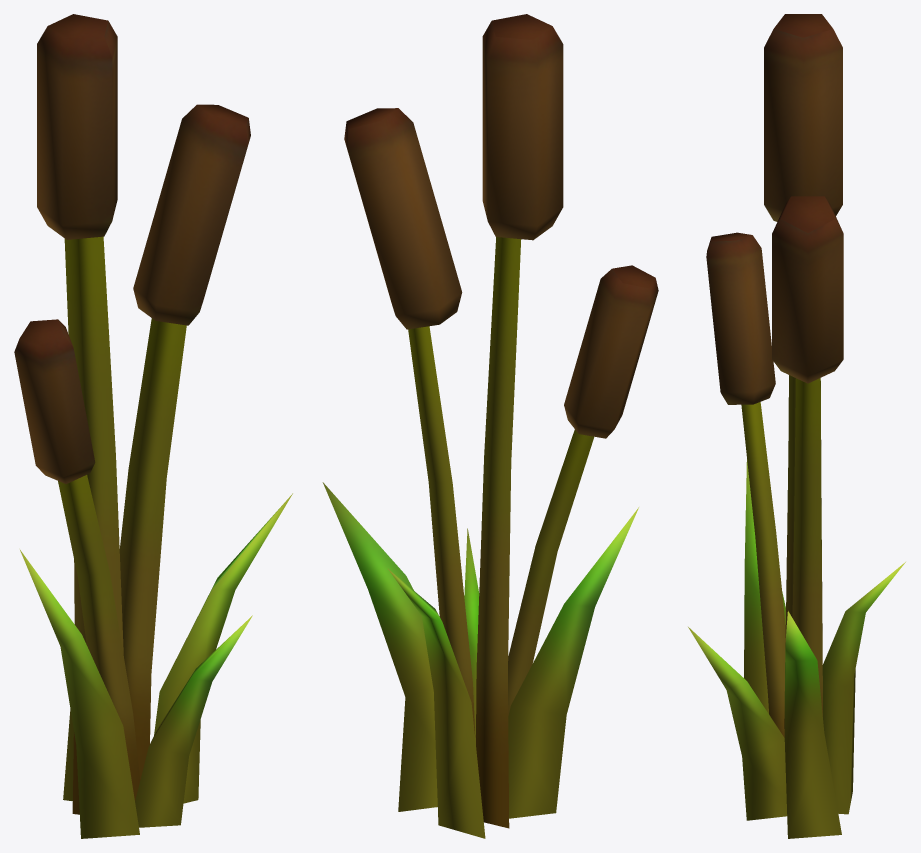
The model's file is Reed.FBX.
3 views of the same model, side by side, from view 1: azimuth 30°, elevation 25°; view 2: azimuth 150°, elevation 25°; view 3: azimuth 270°, elevation 25° (orthographic). The views are drawn at different scales.
Parts seen in each view (by area): view 1: reed; view 2: reed; view 3: reed.
Boxes of the visible parts, x1=… form: reed: x1=14, y1=14, x2=292, y2=838; reed: x1=322, y1=14, x2=658, y2=838; reed: x1=688, y1=14, x2=905, y2=838.
Bounding box in the file's own units: 19.62 × 49.01 × 12.78.
